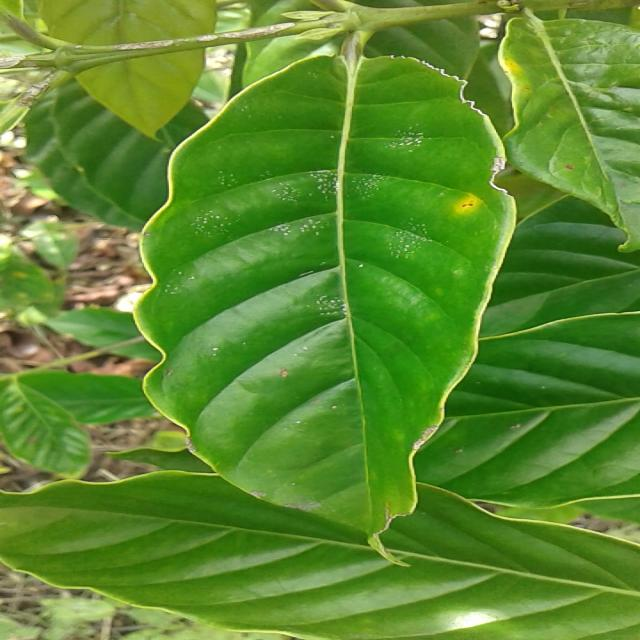Enfermedad-Roya: (132, 53, 517, 541)
